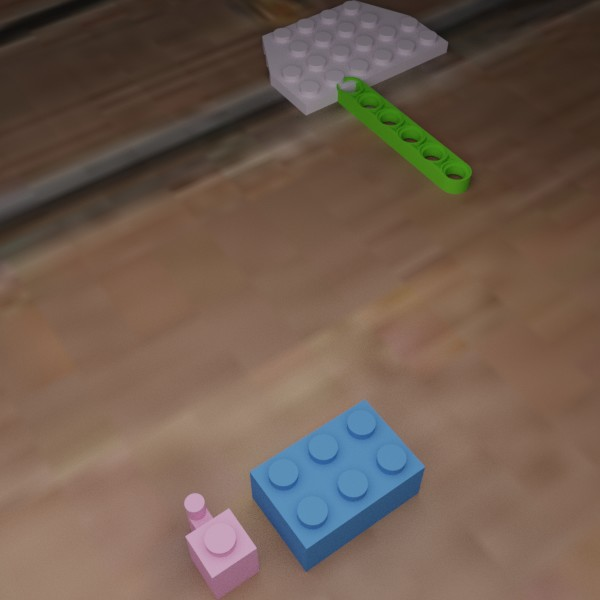lego: (249, 399, 425, 572), (262, 0, 448, 115), (336, 76, 471, 193), (184, 493, 259, 599)
